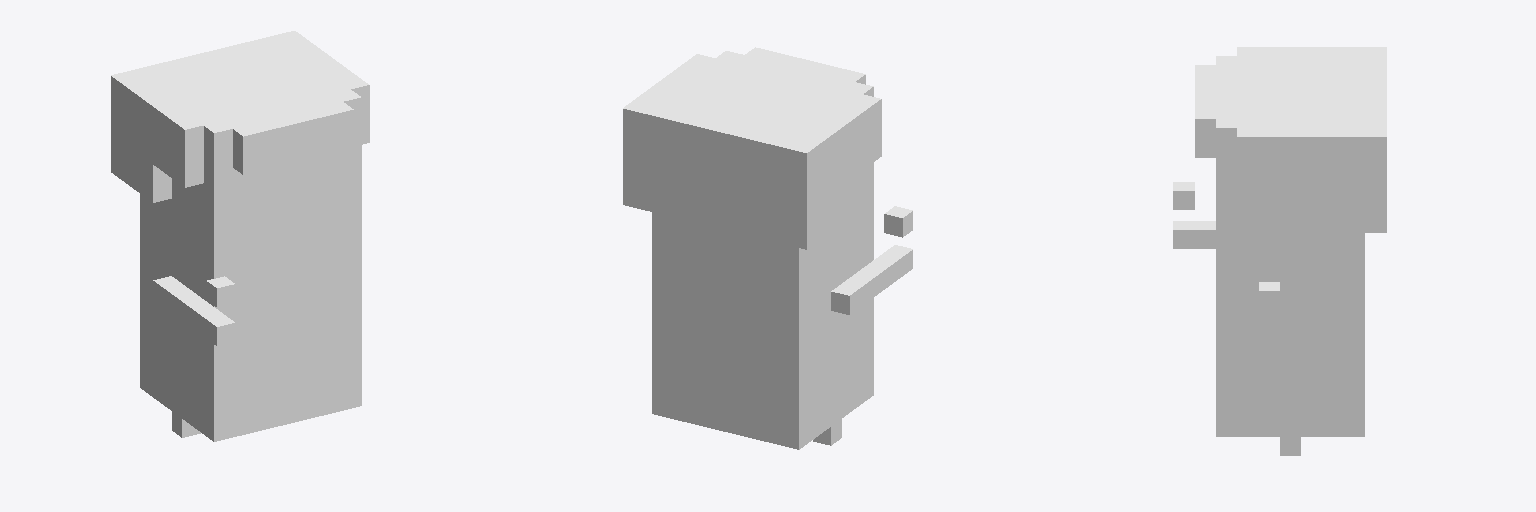
File: FireMan.obj
3 renders of one model, left to right at view 1: azimuth 30°, elevation 25°; view 2: azimuth 150°, elevation 25°; view 3: azimuth 270°, elevation 25°, orthographic.
Bounding box in the file's own units: 10 × 17 × 10.